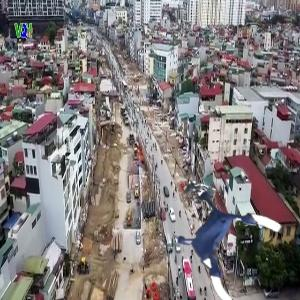drone: (169, 195, 274, 300)
